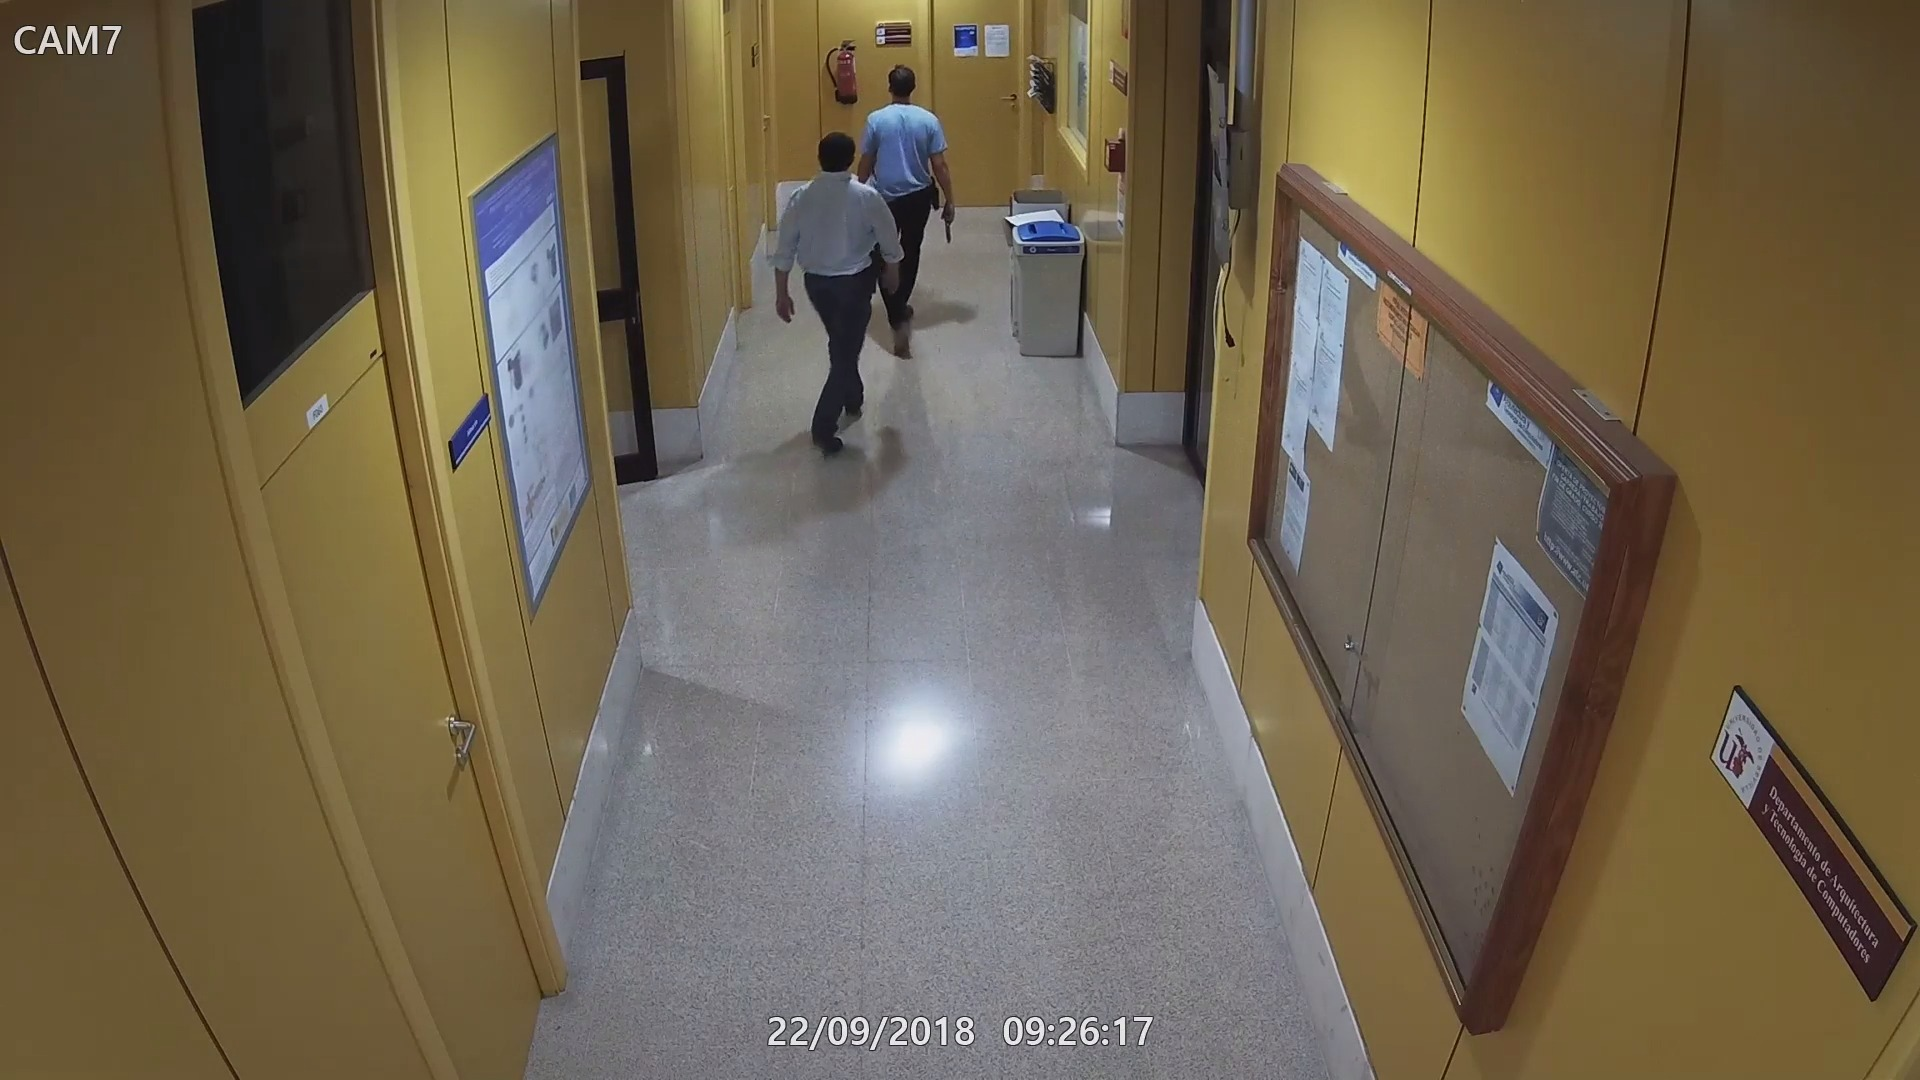Handgun: (936, 199, 963, 245), (862, 251, 889, 291)
